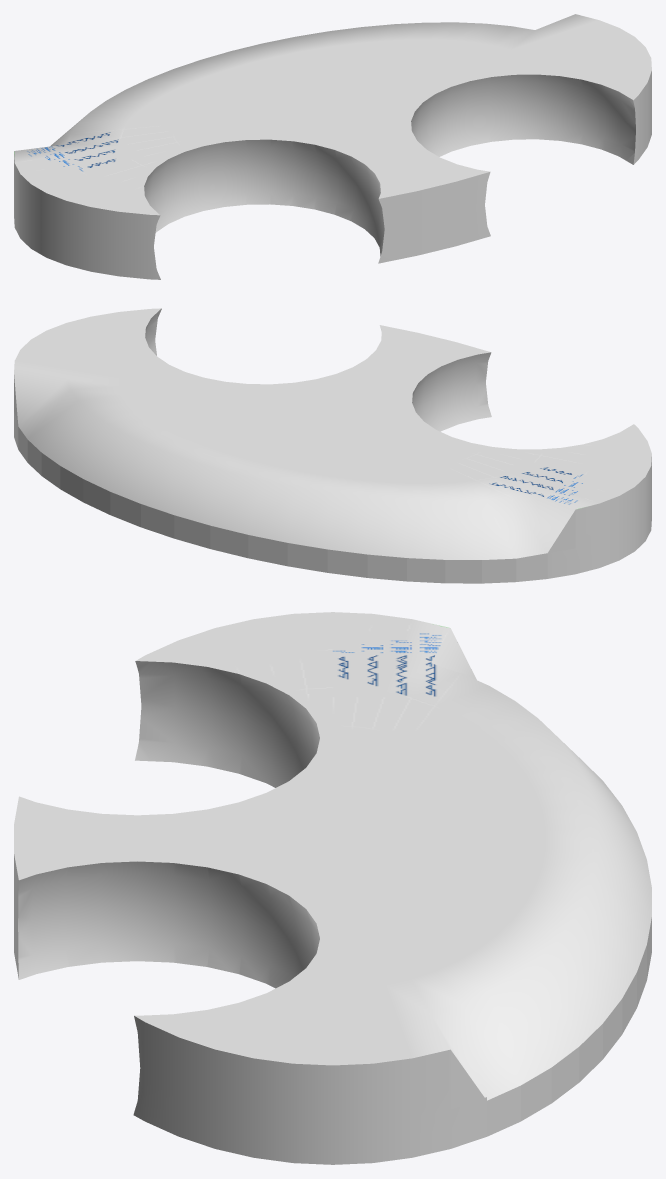
The model's file is AlienBoss.FBX.
3 renders of one model, top to bottom at view 1: azimuth 30°, elevation 25°; view 2: azimuth 150°, elevation 25°; view 3: azimuth 270°, elevation 25°, orthographic. The views are drawn at different scales.
Parts seen in each view (by area): view 1: Cylinder001; view 2: Cylinder001; view 3: Cylinder001.
Boxes of the visible parts, box(x1,y1,x2,y2) form: Cylinder001: box(14, 14, 651, 279); Cylinder001: box(14, 308, 651, 583); Cylinder001: box(14, 612, 651, 1164).
Bounding box in the file's own units: 157 × 93.43 × 16.07.
1 material, 1 textured.
